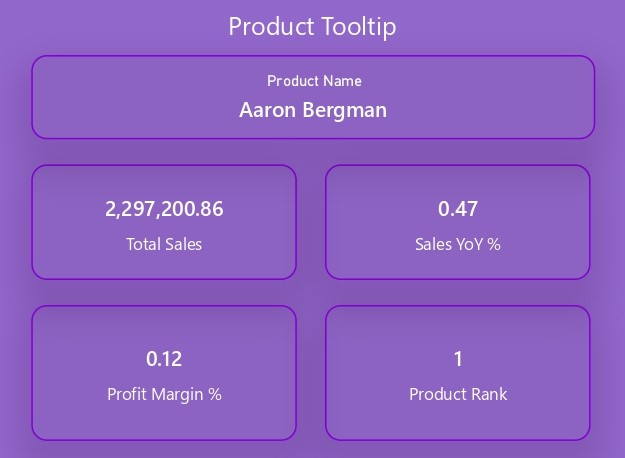

This screenshot's page, from the dashboard's own definition file:
{"tool":"powerbi","page":{"name":"Tooltip - Quick Insights","canvas":[400,300],"ordinal":7},"visuals":[{"type":"card","fields":{"Values":["FactSales.Total Sales"]},"box":[20,108.9,170,74.4],"z":0},{"type":"textbox","box":[50,7.8,300,24.4],"z":1000},{"type":"card","fields":{"Values":["FactSales.Sales YoY %"]},"box":[208.9,108.9,170,74.4],"z":2000},{"type":"card","fields":{"Values":["FactSales.Product Rank"]},"box":[208.9,197.8,170,86.7],"z":3000},{"type":"card","fields":{"Values":["FactSales.Profit Margin %"]},"box":[20,197.8,170,86.7],"z":4000},{"type":"card","title":"Product Name","fields":{"Values":["Min(FactSales.Customer Name)"]},"box":[20,37.8,361.1,54.4],"z":5000}]}

Visuals, with their boxes in screenshot pixels (x1, y1, x2, y2), scaled from the page's 400x300 canvas onto the 625x458 screenshot:
card - FactSales.Total Sales: 31, 166, 297, 280
textbox: 78, 12, 547, 49
card - FactSales.Sales YoY %: 326, 166, 592, 280
card - FactSales.Product Rank: 326, 302, 592, 434
card - FactSales.Profit Margin %: 31, 302, 297, 434
"Product Name" card: 31, 58, 595, 141
